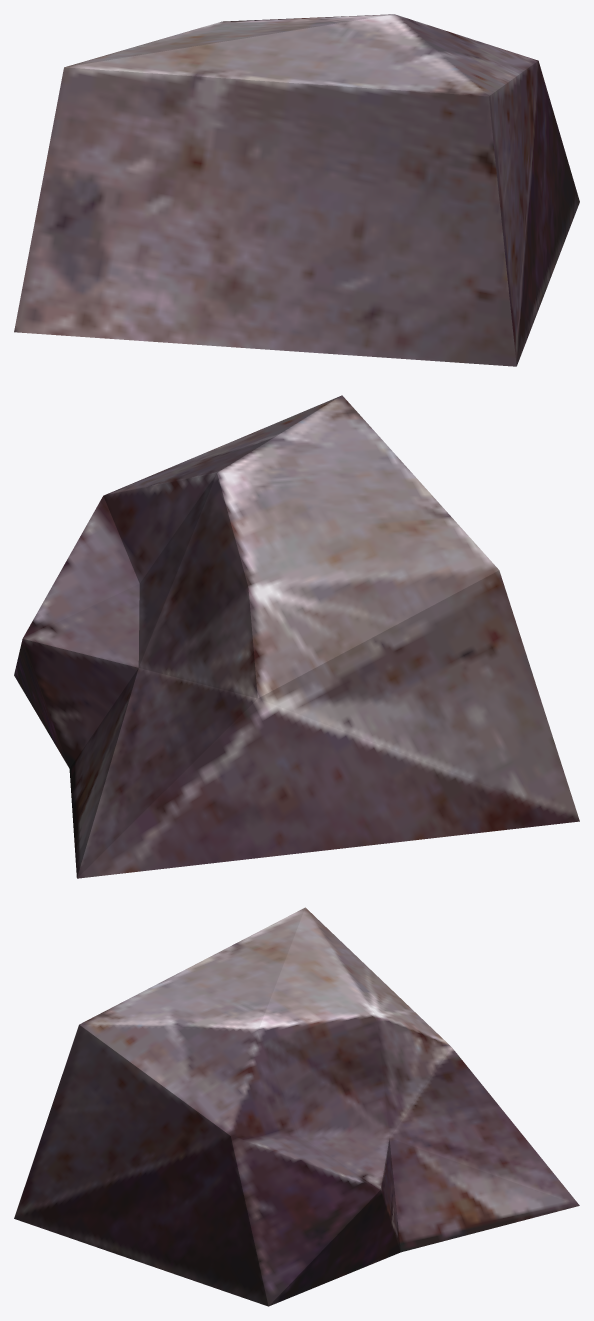
3 views of the same model, one above another, from view 1: azimuth 30°, elevation 25°; view 2: azimuth 150°, elevation 25°; view 3: azimuth 270°, elevation 25° (orthographic). The views are drawn at different scales.
Visible parts, largest first — view 1: id400711; view 2: id400711; view 3: id400711.
Boxes of the visible parts, bbox=[...] form: id400711: bbox=[14, 14, 579, 366]; id400711: bbox=[14, 395, 579, 878]; id400711: bbox=[14, 907, 579, 1306].
Bounding box in the file's own units: 29.87 × 12.22 × 31.54.
Materials: 1 (1 with a texture image).
